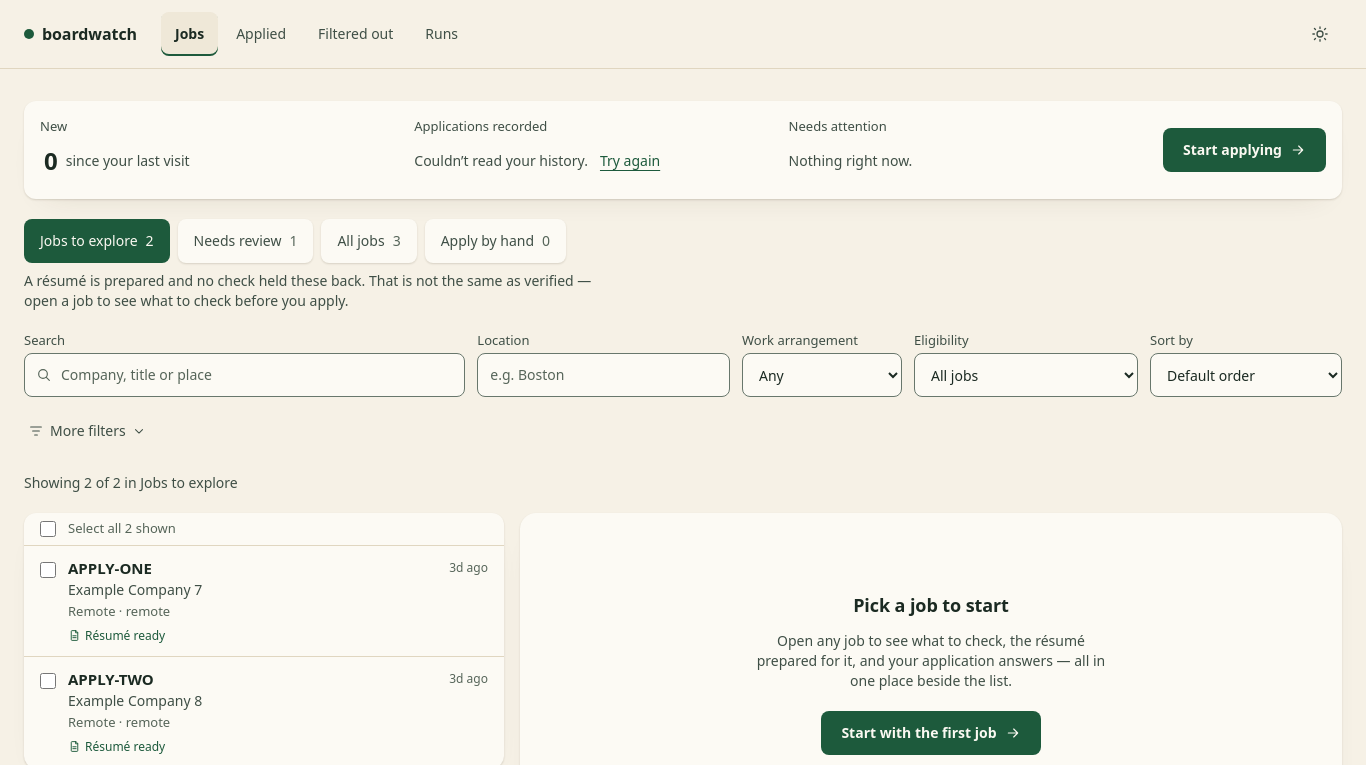
the status readout › counts each list on its own, and both together only under All jobs
Expected: the text "Showing 2 of 2 in Jobs to explore" is shown, [24,473,238,492]
Click the button "Needs review 1" at (245, 241), box [178,219,313,263]
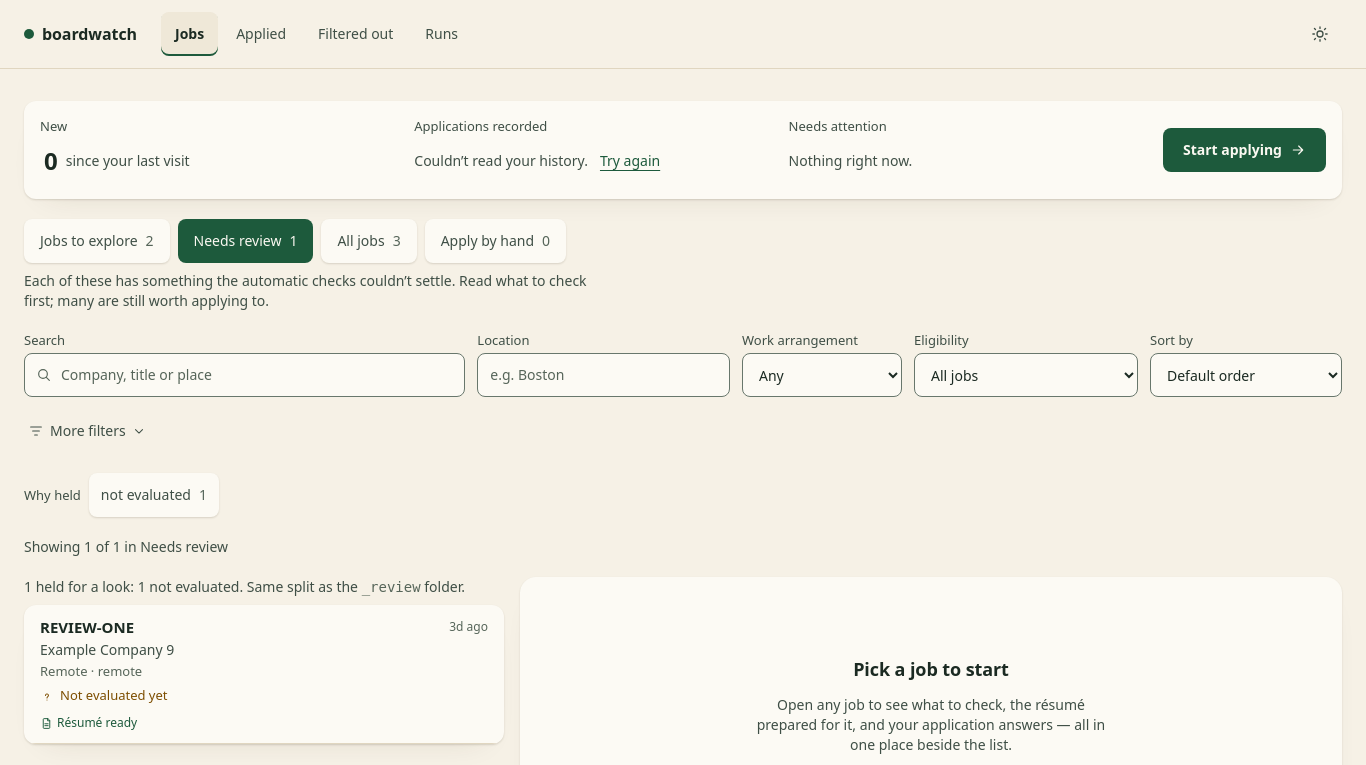
Expected: the text "Showing 1 of 1 in Needs review" is shown, [24,537,228,556]
Click the button "All jobs 3" at (369, 241), box [321,219,417,263]
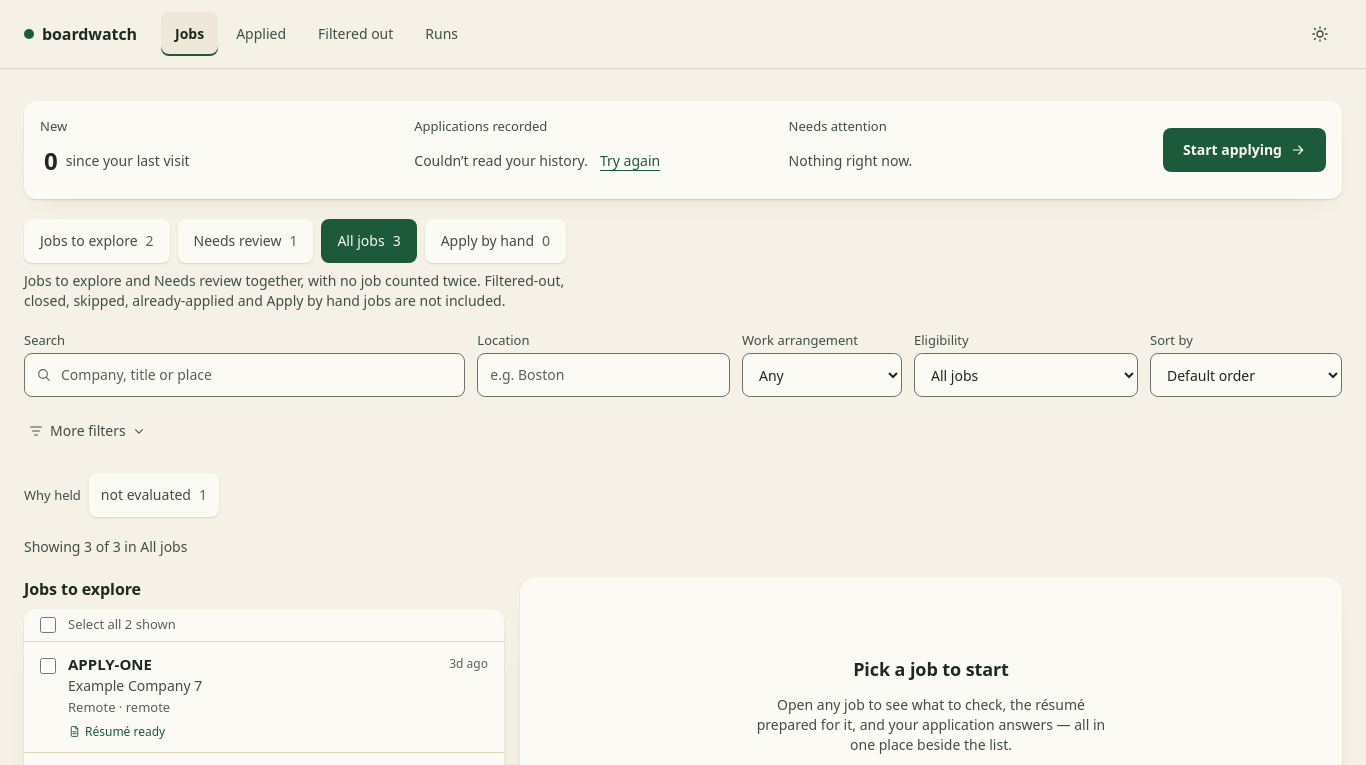
Expected: the text "Showing 3 of 3 in All jobs" is shown, [24,537,187,556]
